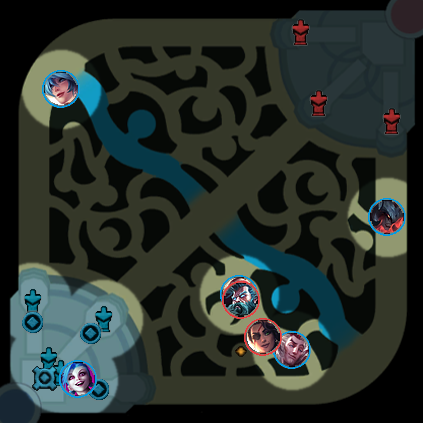Aatrox: (368, 198, 406, 236)
Jinx: (59, 360, 97, 398)
LeeSin: (220, 275, 258, 313)
Rakan: (273, 331, 311, 369)
Samira: (244, 318, 282, 356)
Sona: (42, 70, 80, 108)
Zilean: (222, 281, 260, 319)
